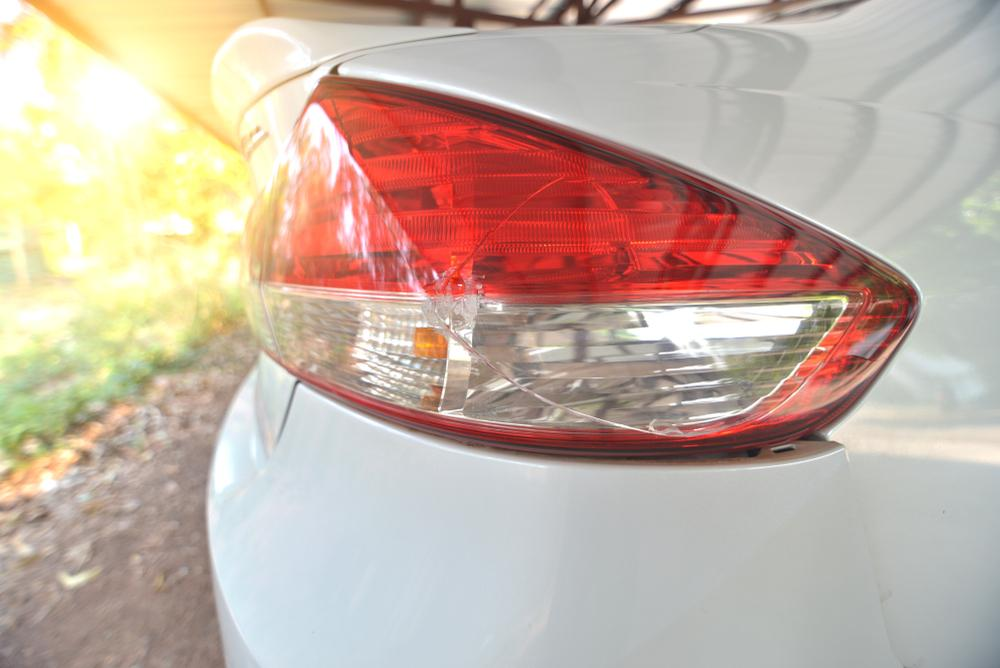lamp broken: (244, 76, 922, 456)
